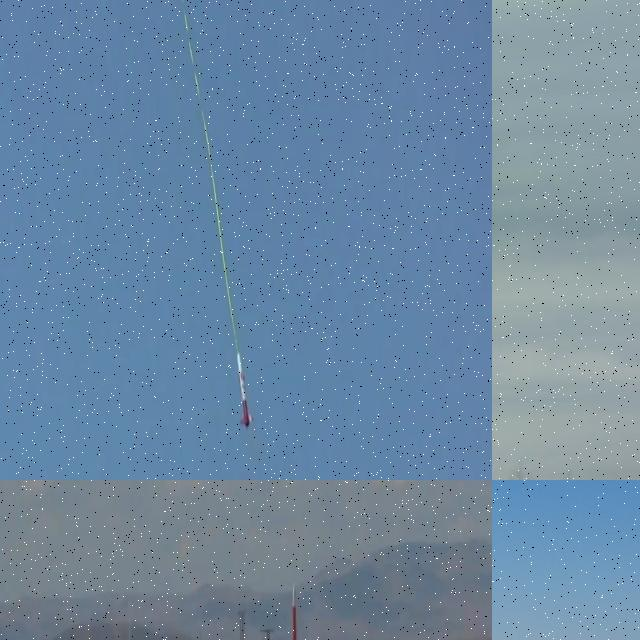Rocket: (237, 352, 253, 429), (288, 582, 299, 640)
